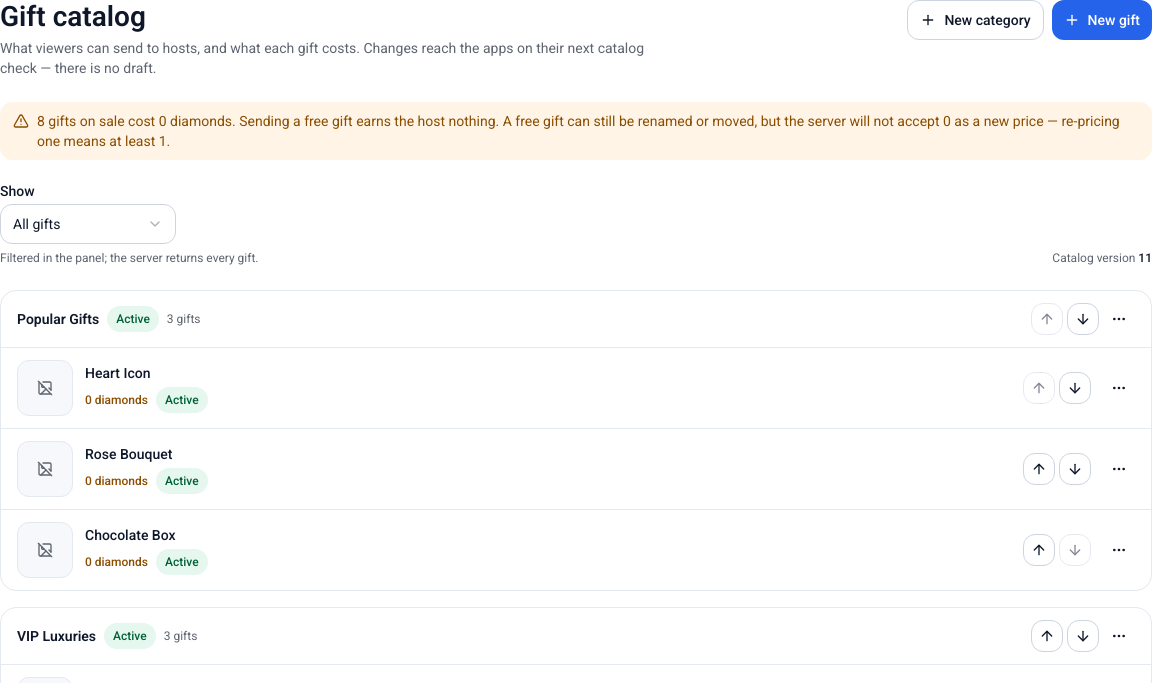
Test: editing a free gift › refuses a new price of 0 without sending anything
Click the button named "Actions for Heart Icon" at [1119, 388], box [1103, 372, 1135, 404]
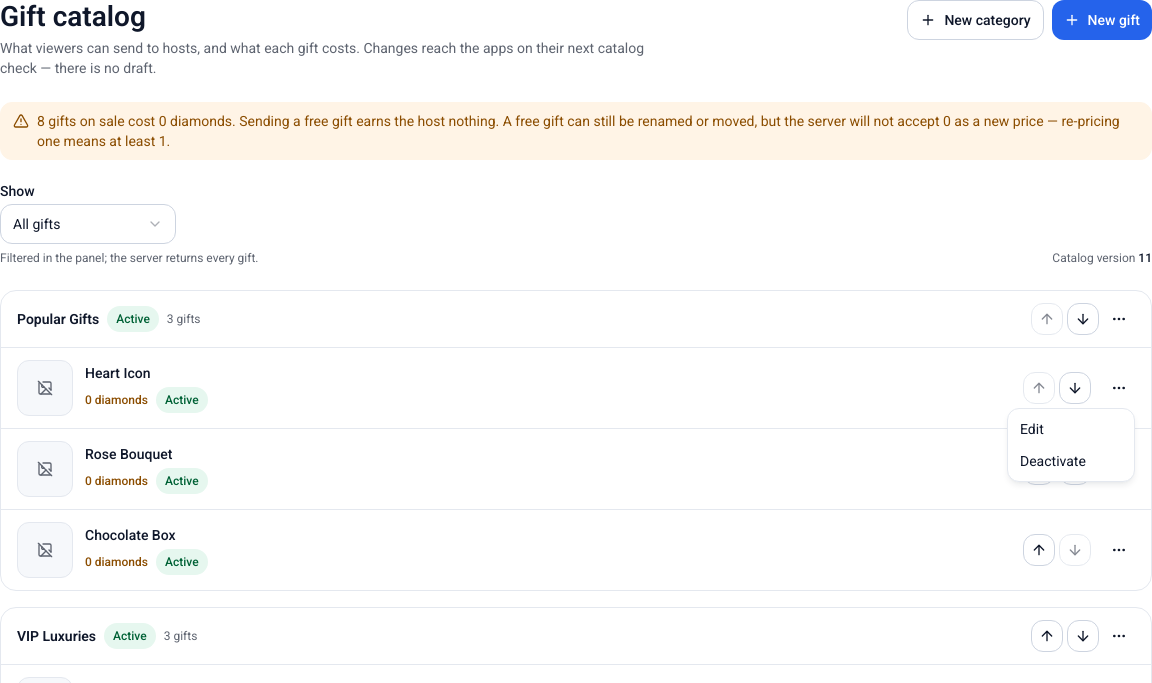
Click the menu item "Edit" at [1032, 429], box [1020, 421, 1044, 437]
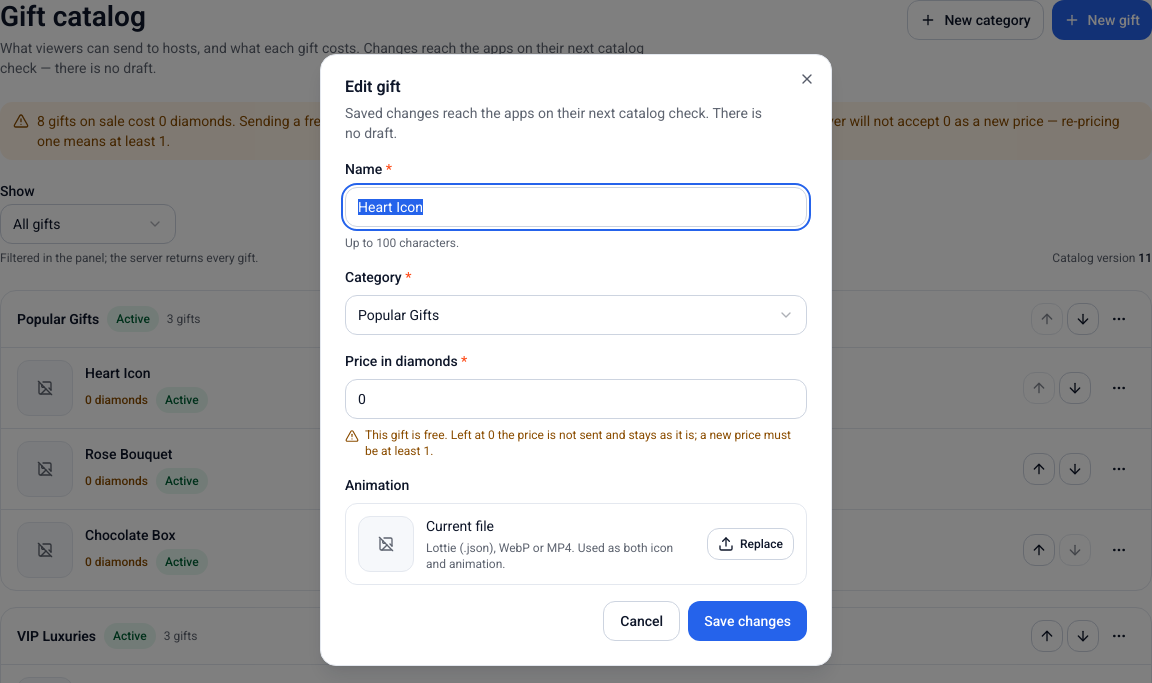
Clear the field labelled "Price in diamonds *" at [576, 399], box [345, 379, 807, 419]
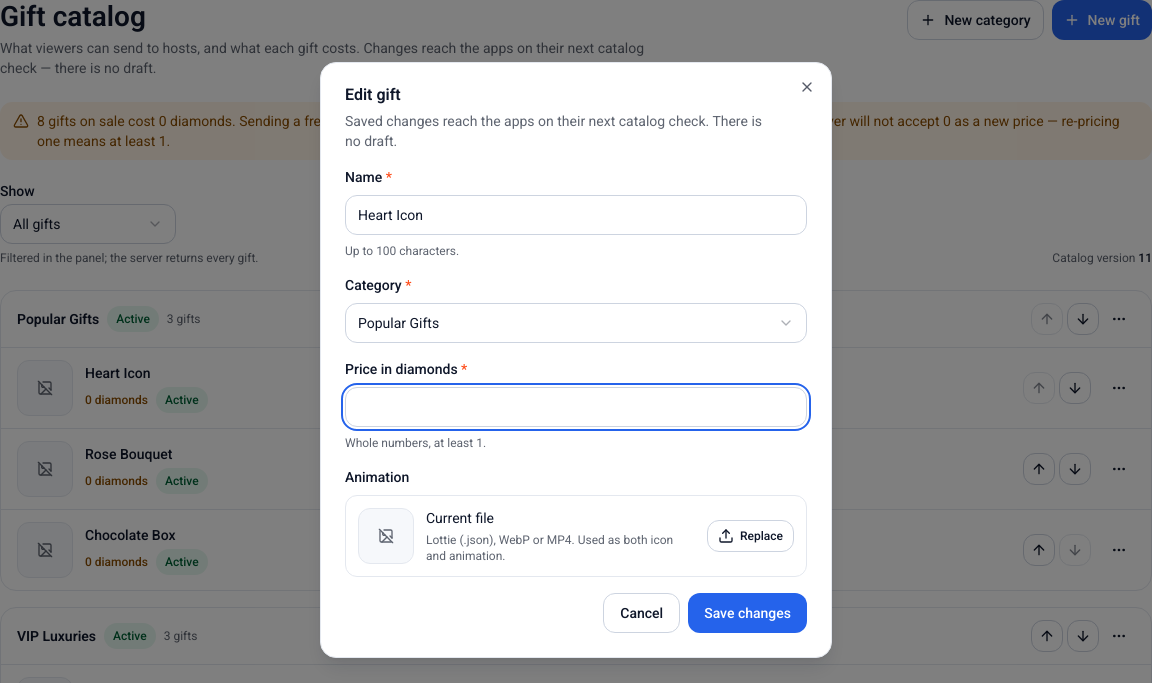
Click the button "Save changes" at [748, 613], box [688, 593, 807, 633]
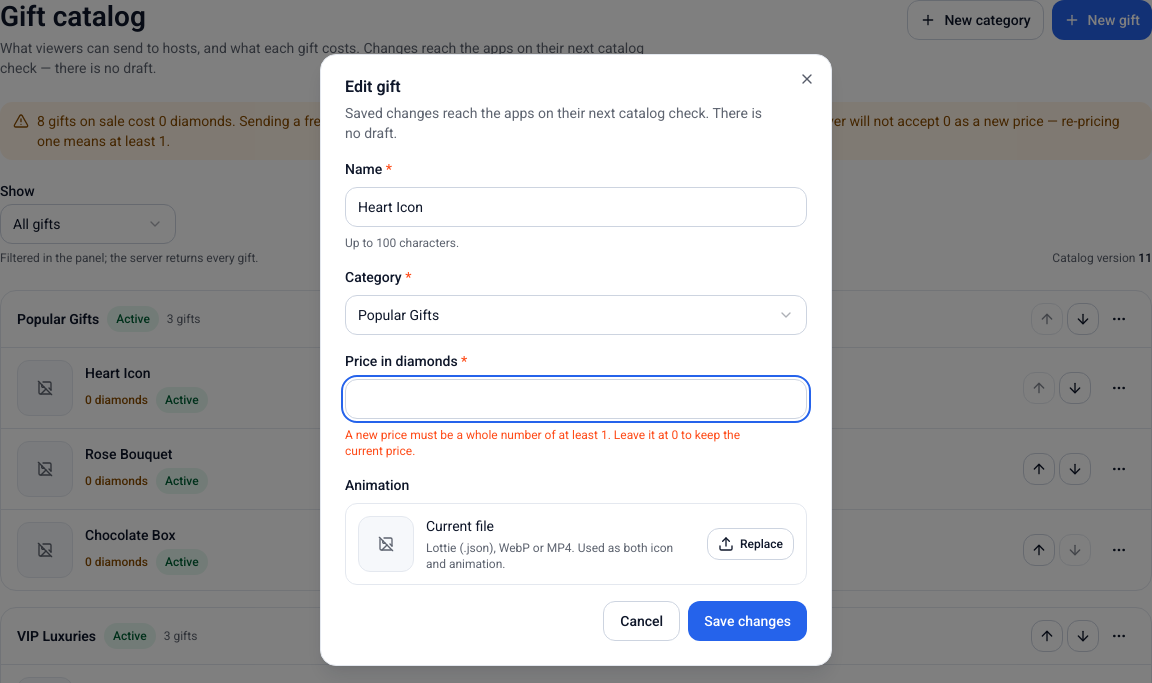
Result: the text "Leave it at 0" is shown at [345, 428, 740, 458]
